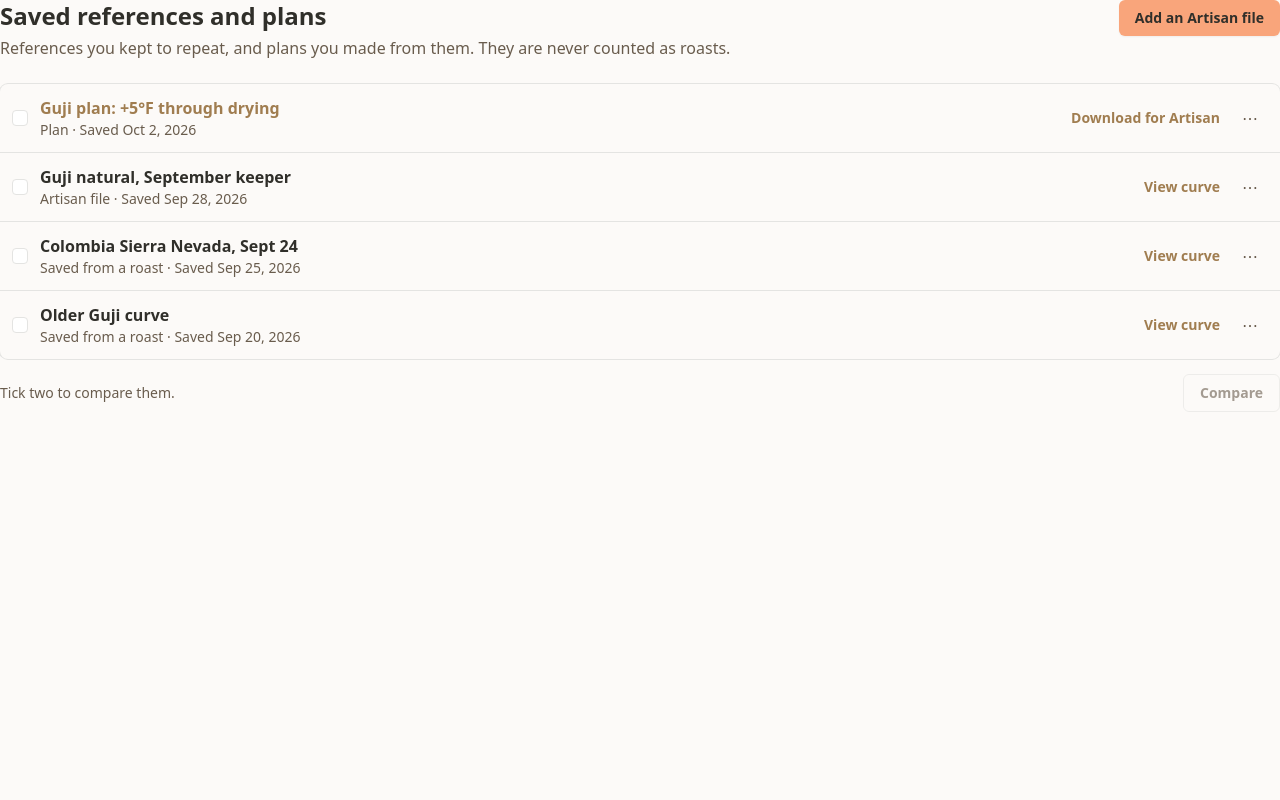
Test case: removing › removes it once confirmed, and says the roasts are unchanged
Click the checkbox named "Compare Guji natural, September keeper". click: coordinates (20, 187)
box: [12, 179, 28, 195]
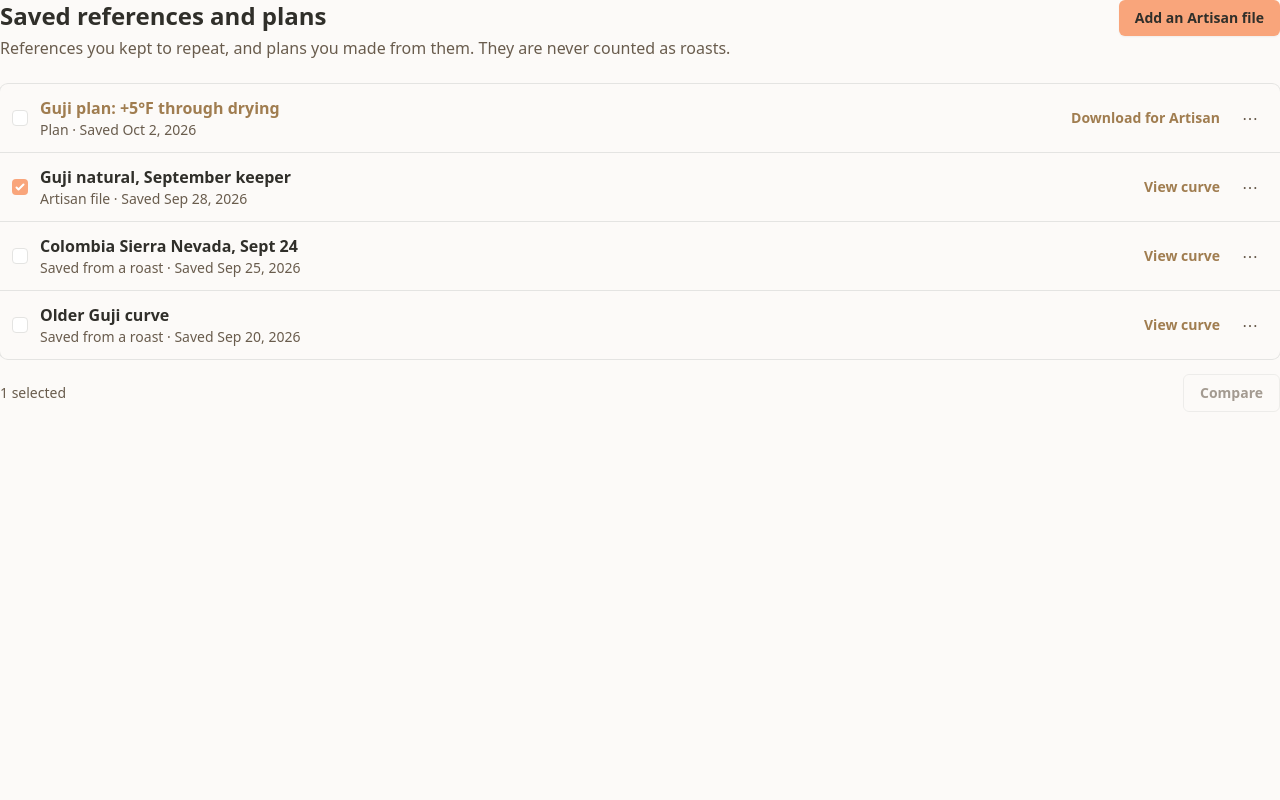
Click the button "⋯" in the row of "Guji natural, September keeper". click: coordinates (1250, 187)
box: [1232, 169, 1268, 205]
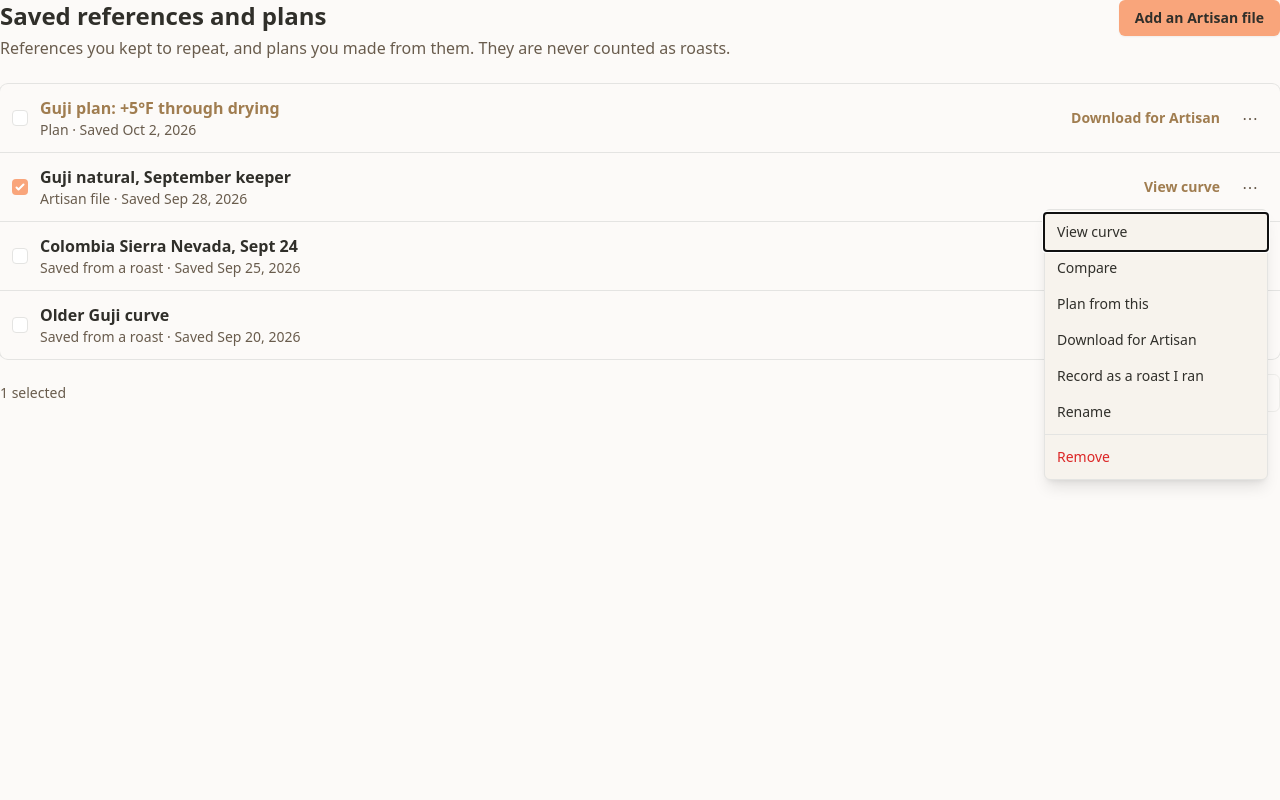
Click the menu item "Remove". click: coordinates (1156, 457)
box: [1045, 439, 1267, 475]
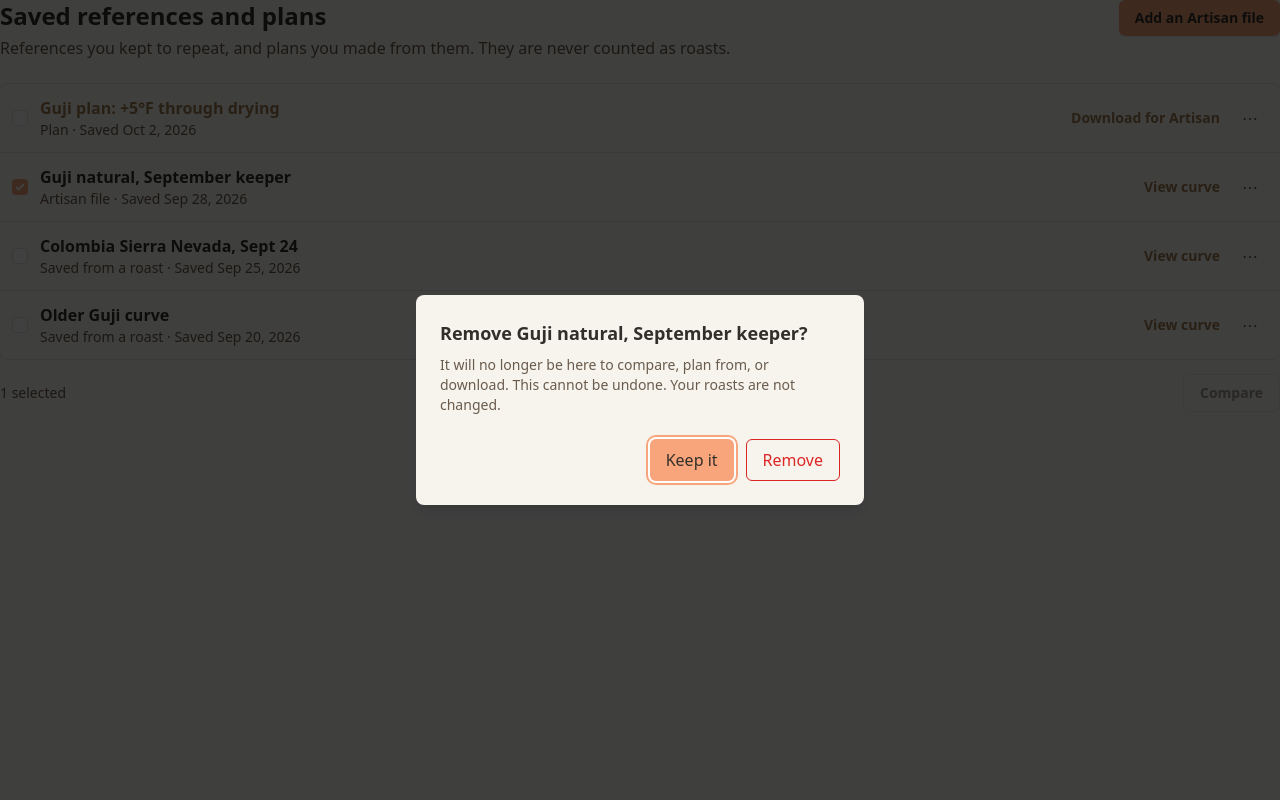
Click the button "Remove". click: coordinates (793, 460)
box: [746, 439, 840, 481]
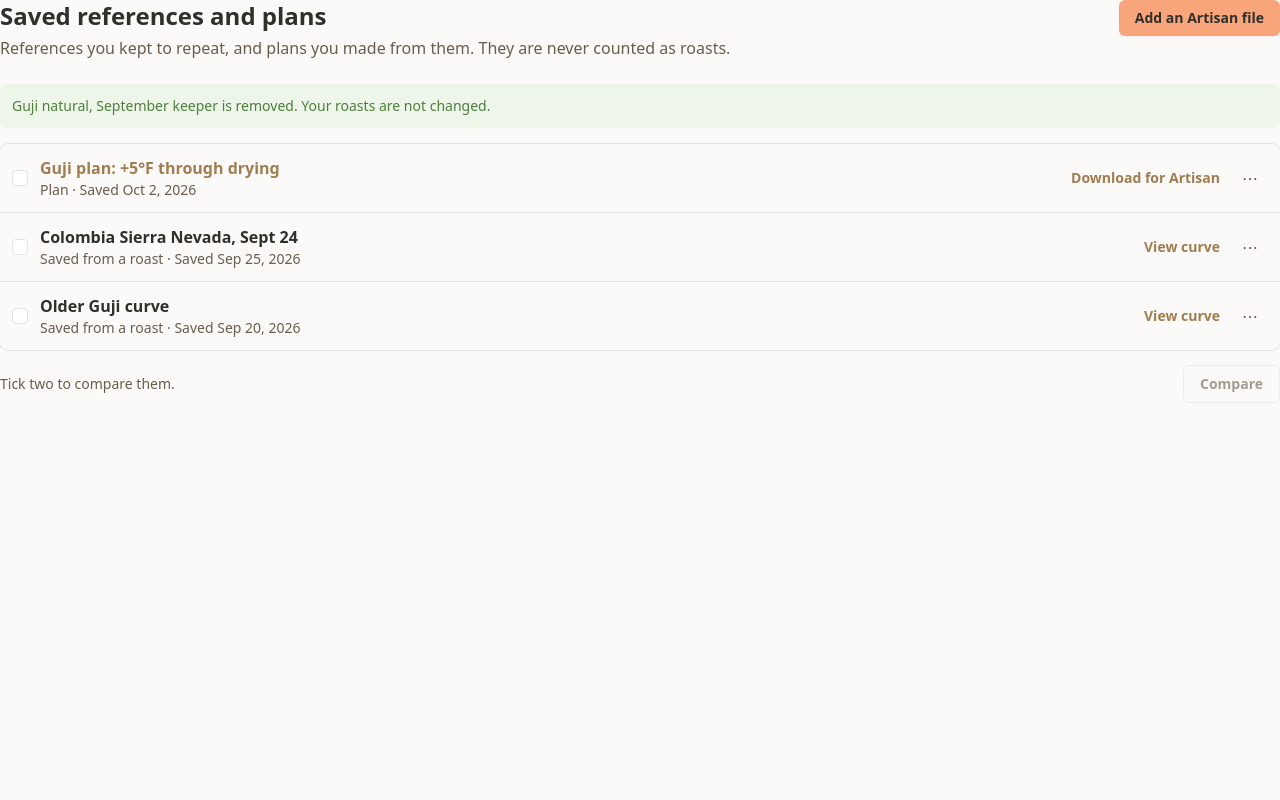
Now the dialog is gone
Now the text "Tick two to compare them." is shown, box [0, 374, 175, 394]
